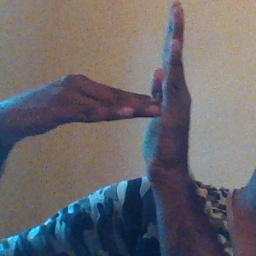Z: (91, 3, 196, 185)
